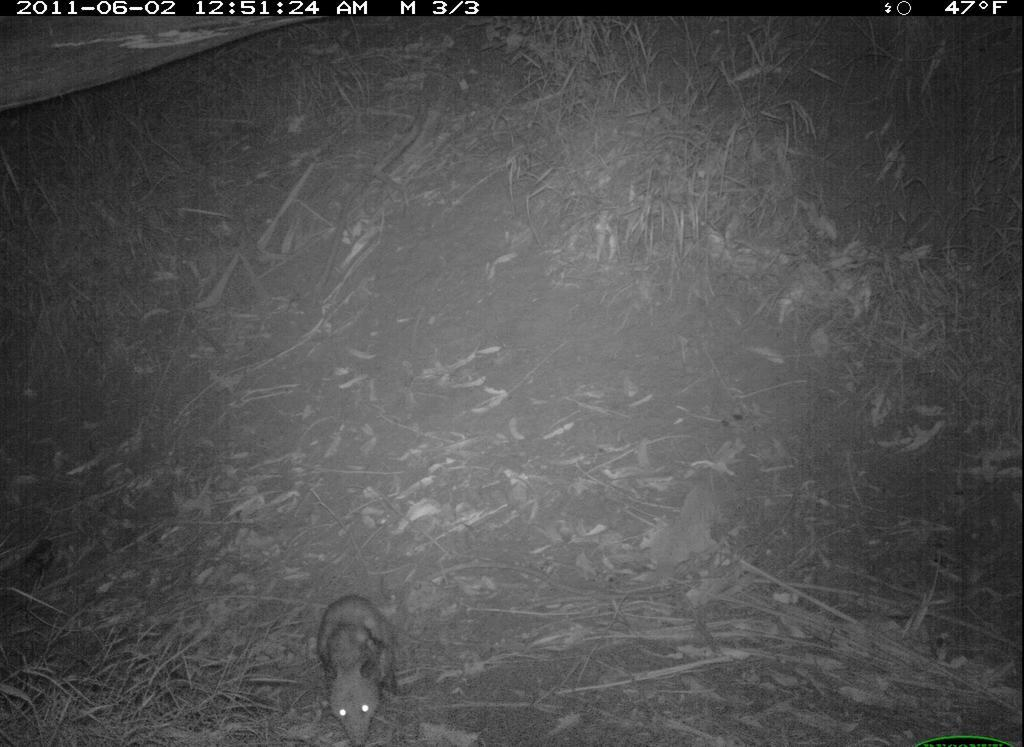opossum: (306, 585, 420, 747)
